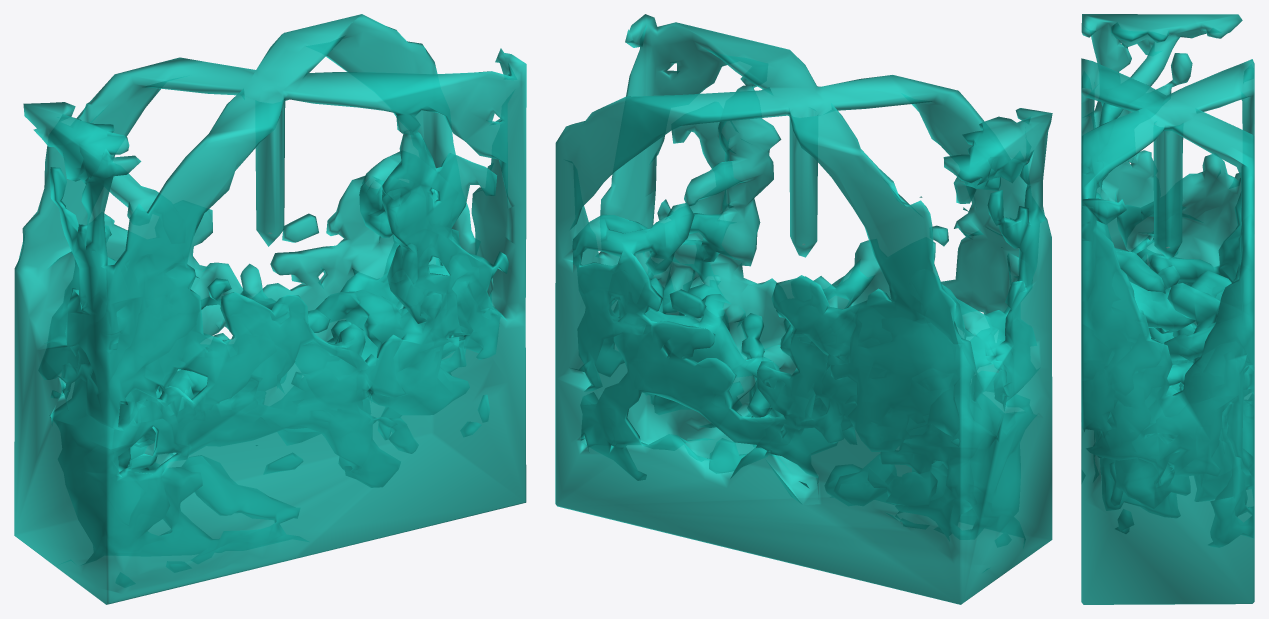
3 views of the same model, side by side, from view 1: azimuth 30°, elevation 25°; view 2: azimuth 150°, elevation 25°; view 3: azimuth 270°, elevation 25° (orthographic). The views are drawn at different scales.
Visible parts, largest first — view 1: Liquid_Domain; view 2: Liquid_Domain; view 3: Liquid_Domain.
Part boxes in pixels (<box>): Liquid_Domain: <box>14,14,526,604</box>; Liquid_Domain: <box>555,14,1052,604</box>; Liquid_Domain: <box>1081,14,1254,604</box>.
Bounding box in the file's own units: 1965 × 1970 × 765.
